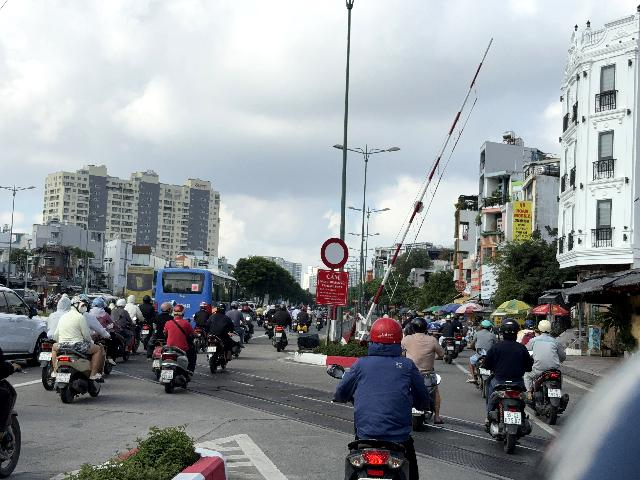duong-cam: (321, 238, 349, 269)
